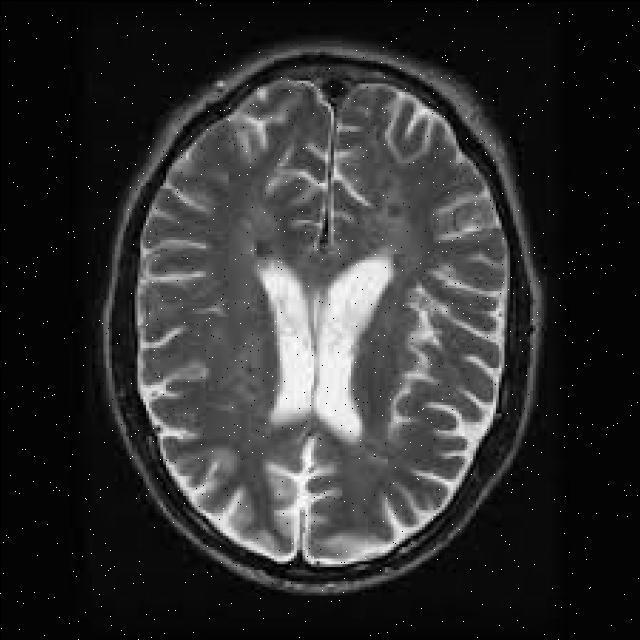No_Tumor: (104, 44, 542, 593)
